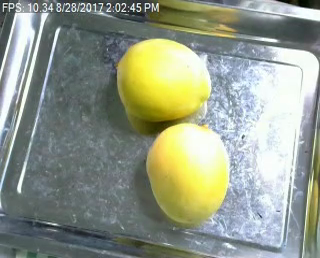Mango: (146, 124, 229, 222), (117, 37, 211, 120)
